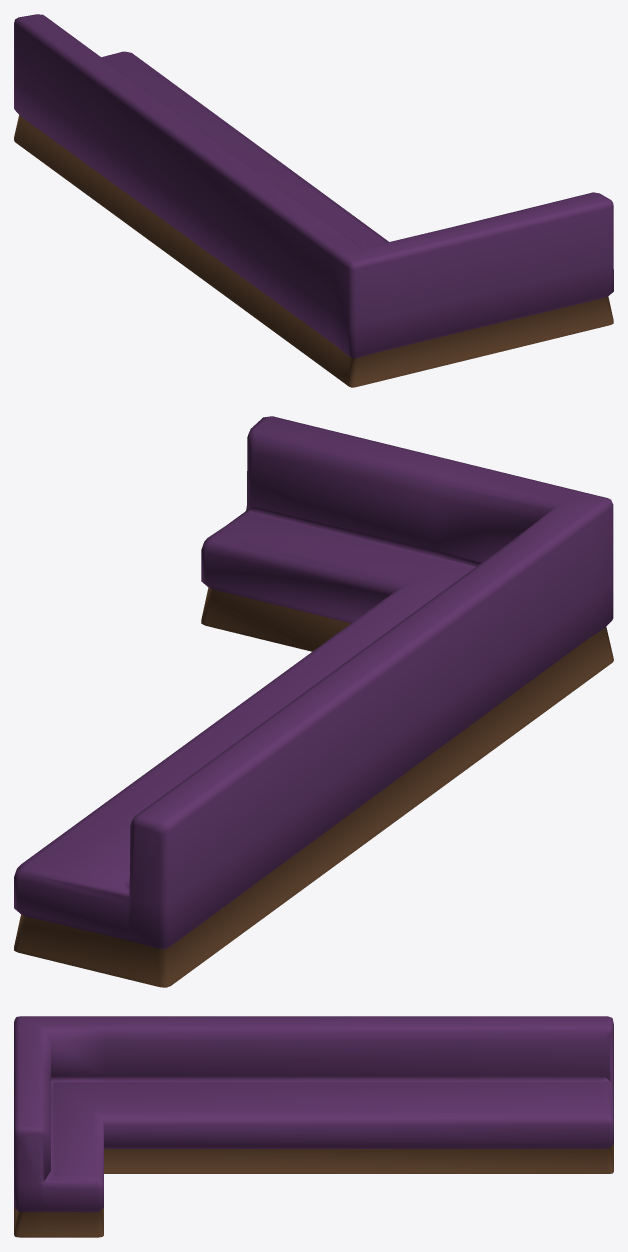
Rendered from ME_SE_LoungeSofa01.fbx.
3 renders of one model, top to bottom at view 1: azimuth 30°, elevation 25°; view 2: azimuth 150°, elevation 25°; view 3: azimuth 270°, elevation 25°, orthographic. The views are drawn at different scales.
Visible parts, largest first — view 1: ME_SE_LoungeSofa01; view 2: ME_SE_LoungeSofa01; view 3: ME_SE_LoungeSofa01.
Part boxes in pixels (box(x1,y1,x2,y2)): ME_SE_LoungeSofa01: box(14, 14, 613, 387); ME_SE_LoungeSofa01: box(14, 416, 613, 987); ME_SE_LoungeSofa01: box(14, 1016, 613, 1237).
Size of the model in its own units: 18009 by 8006 by 40009.
